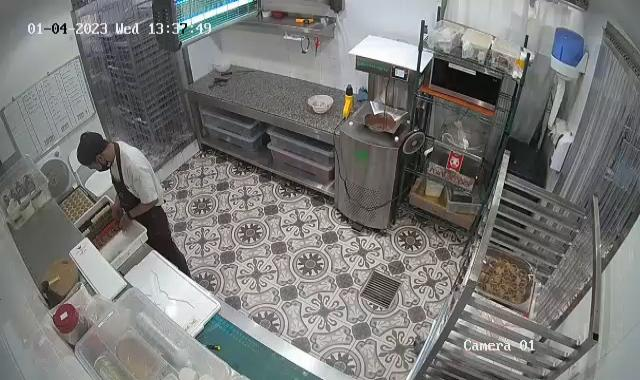no_hairnet: (77, 132, 110, 166)
